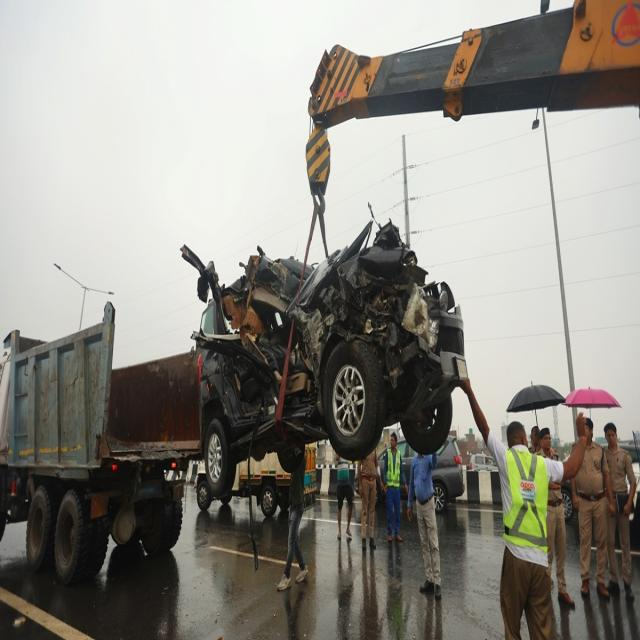accident: (183, 223, 468, 497)
truck: (0, 304, 199, 584)
